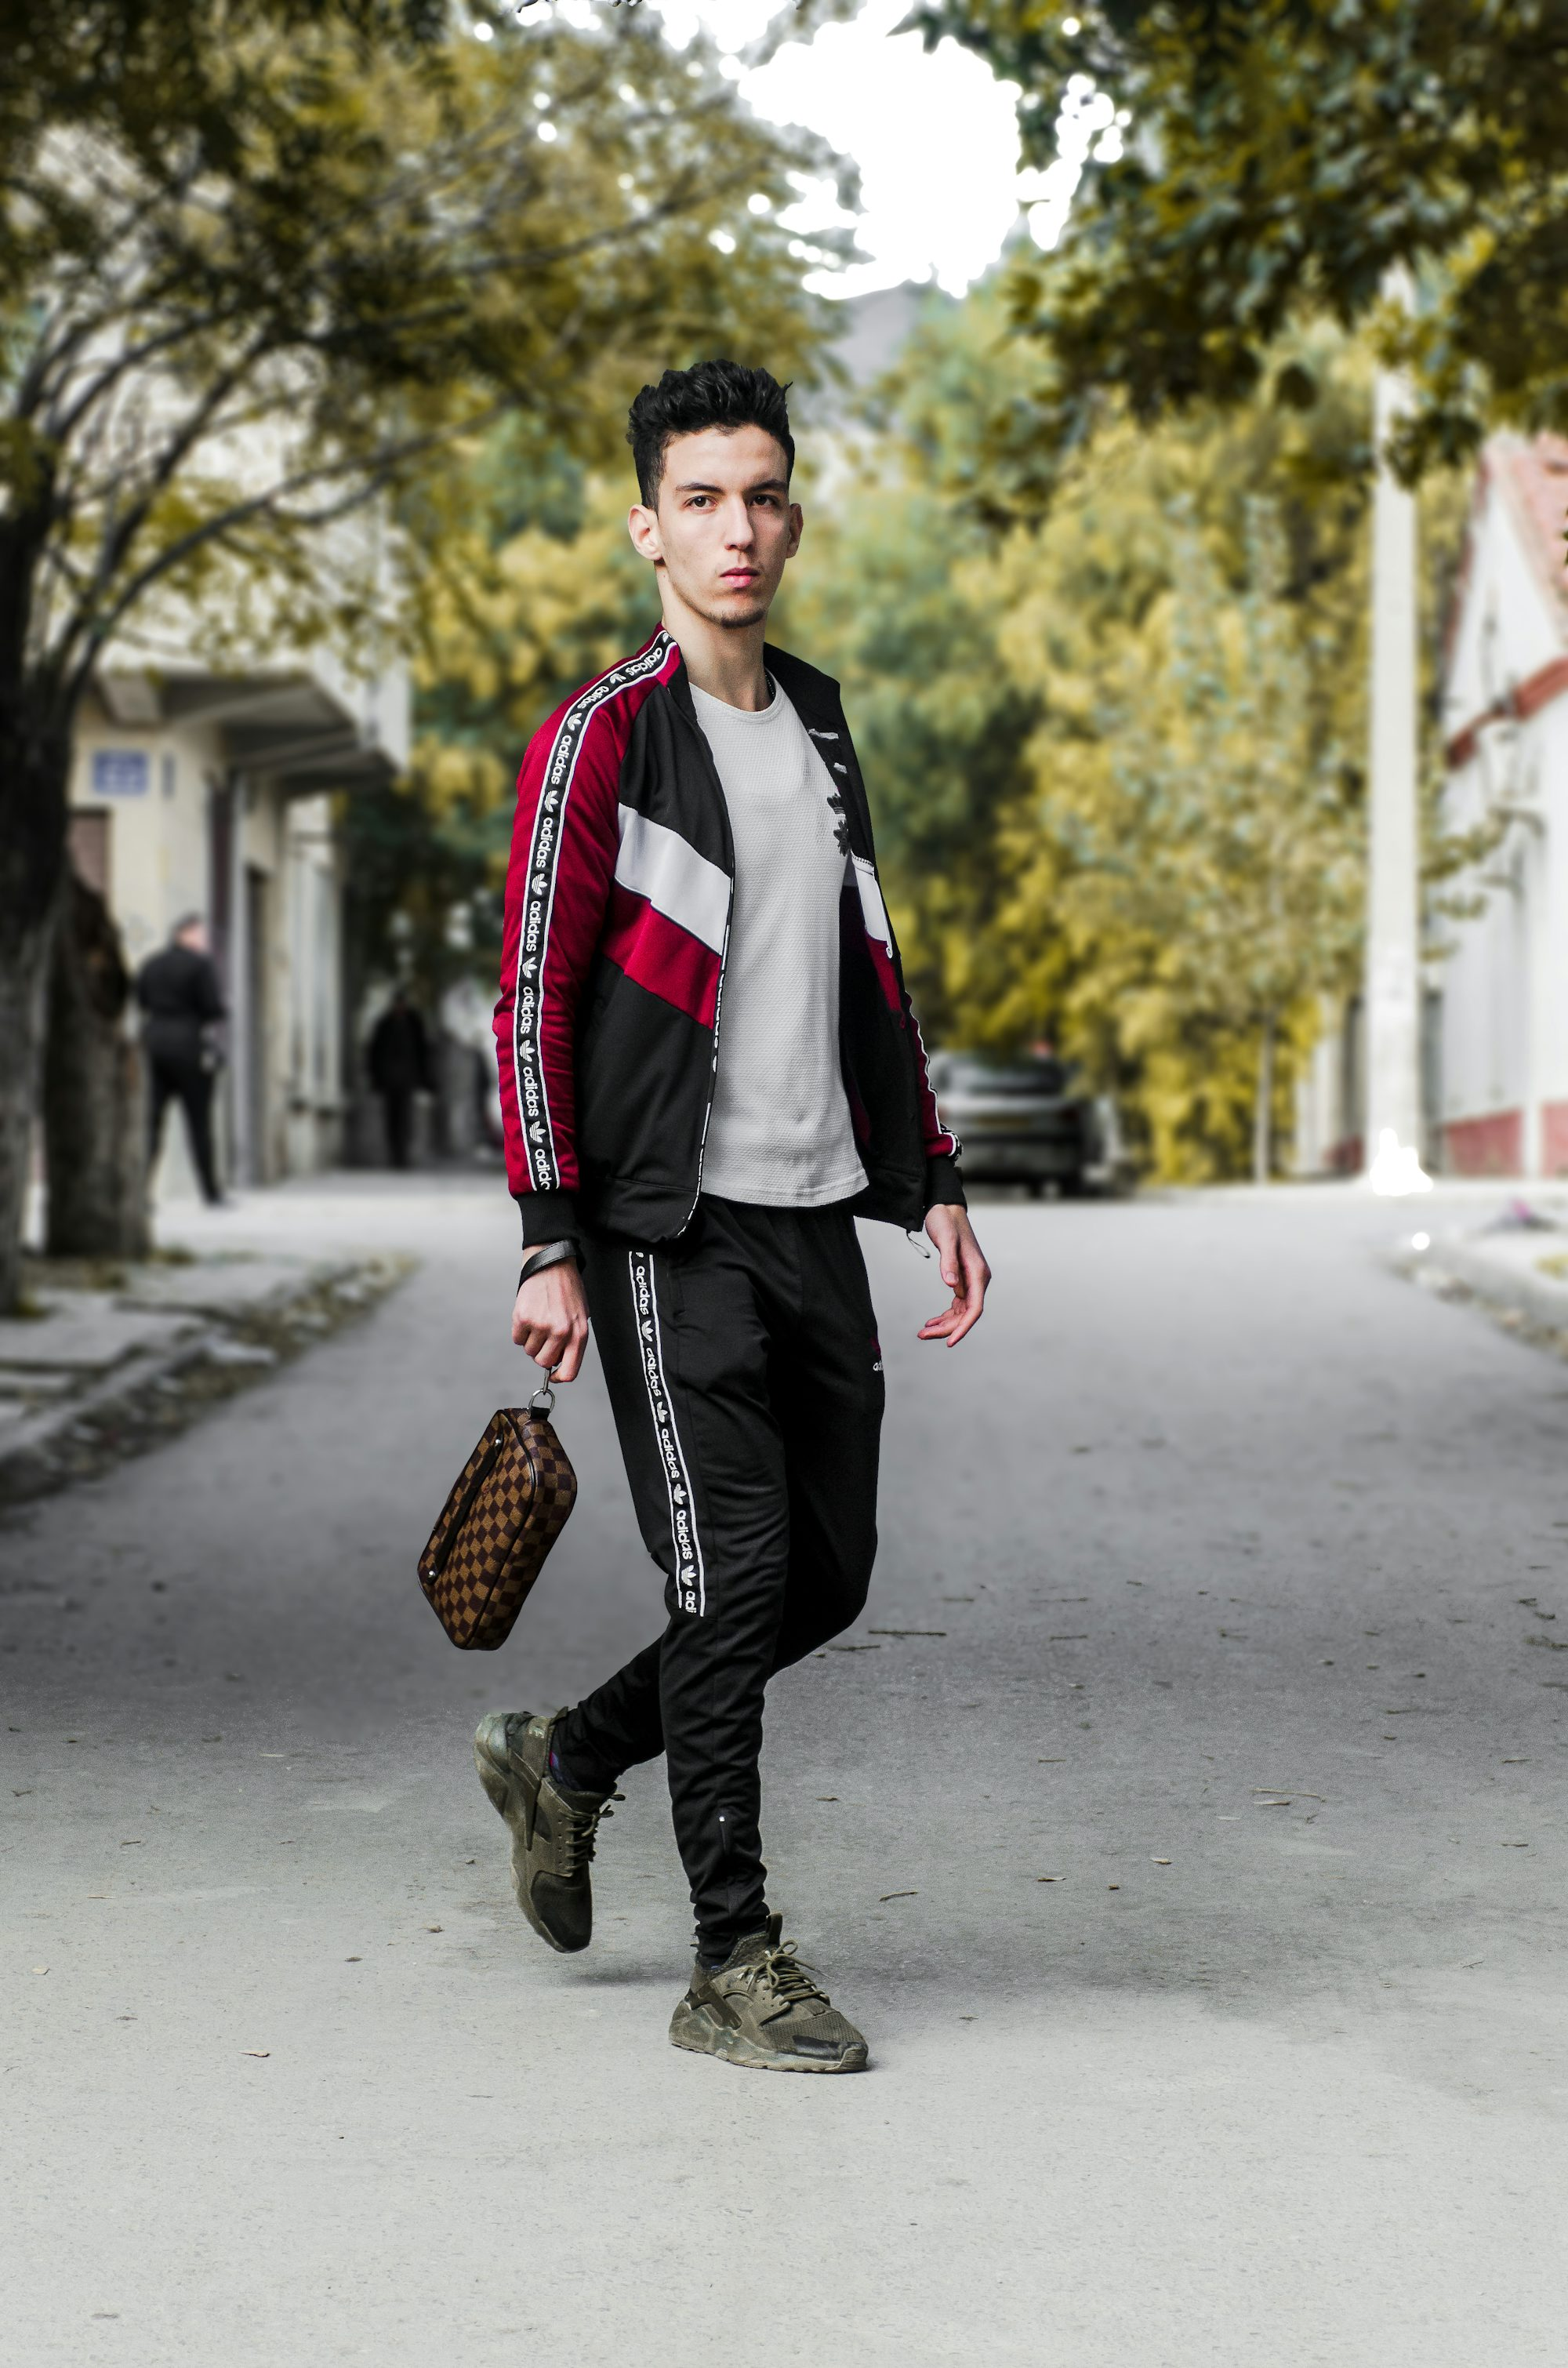person: (403, 354, 1023, 2142)
